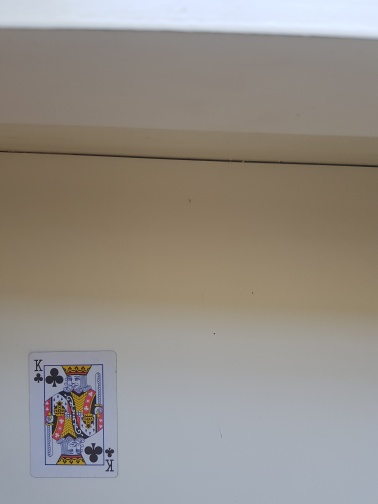king: (27, 349, 119, 479)
